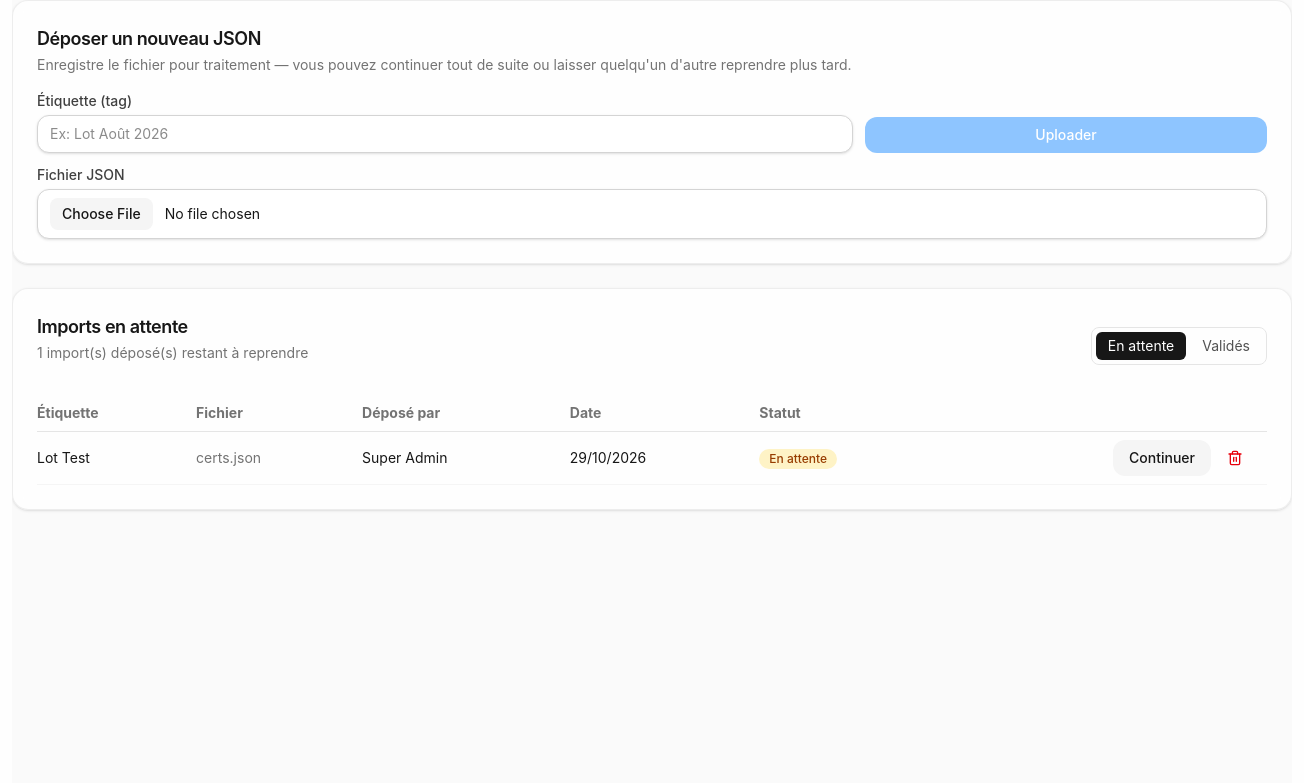
Test case: ImportPage › lists skipped entries separately
Expected: the text "Lot Test" is shown, [37,432,196,484]
Click the button "Continuer" at (1162, 458), box [1113,440,1211,476]
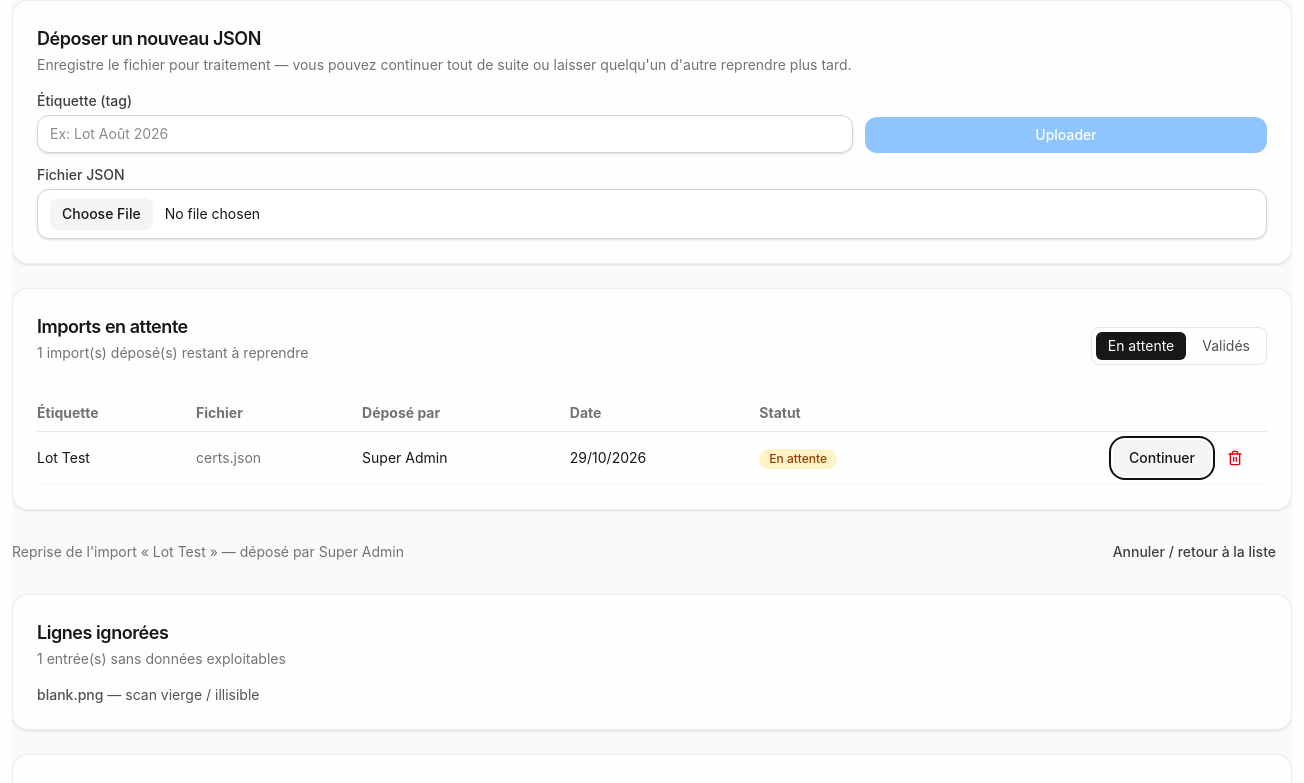
Expected: the heading "Lignes ignorées" is shown, [37,622,168,643]
Expected: the text "blank.png" is shown, [37,686,103,703]
